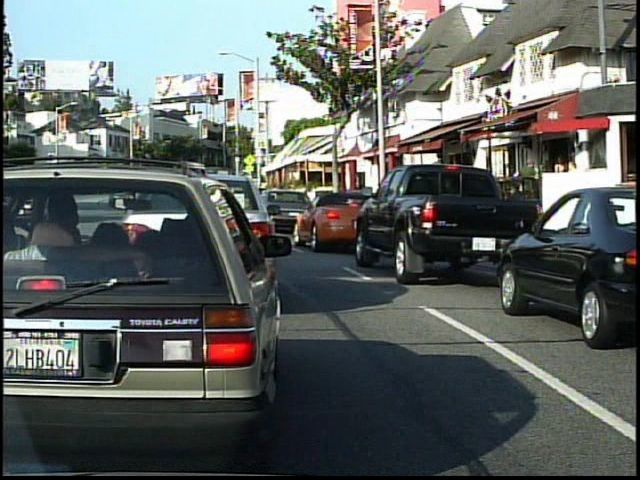person: (517, 153, 542, 214), (548, 151, 571, 209)
